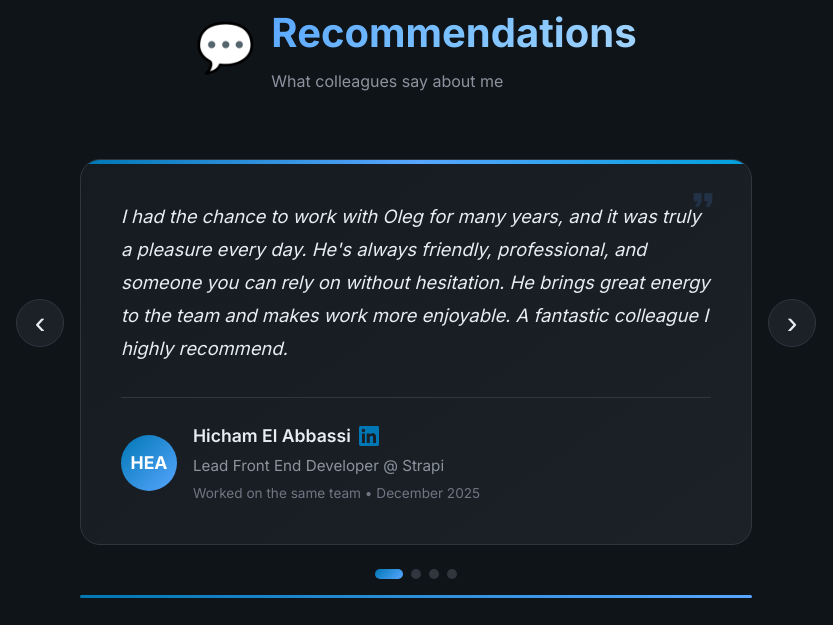
Recommendations Component › navigates to next recommendation on click
This screenshot has width=833, height=625.
Click the button named "Next recommendation" at (792, 323), box [768, 299, 816, 347]
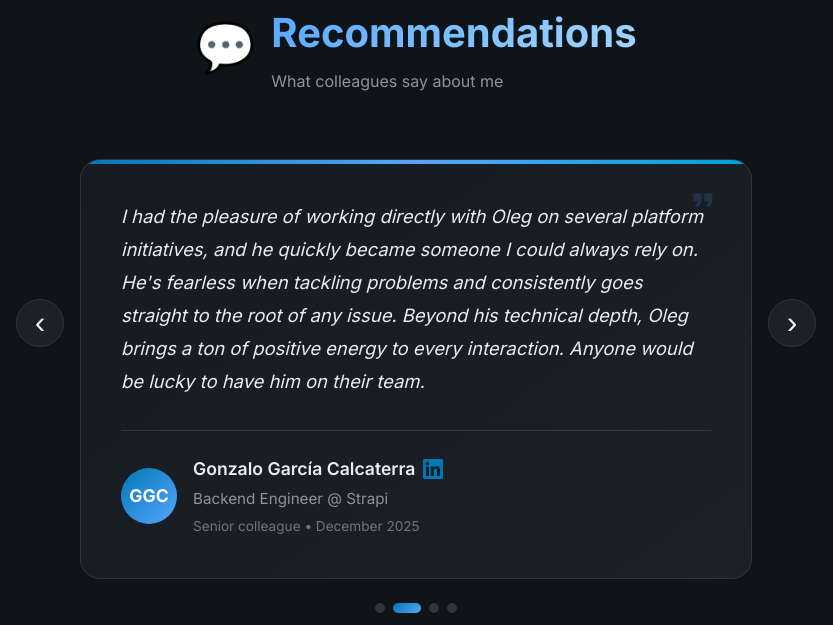
Check: the link "Gonzalo García Calcaterra" is shown, box [193, 455, 444, 483]
